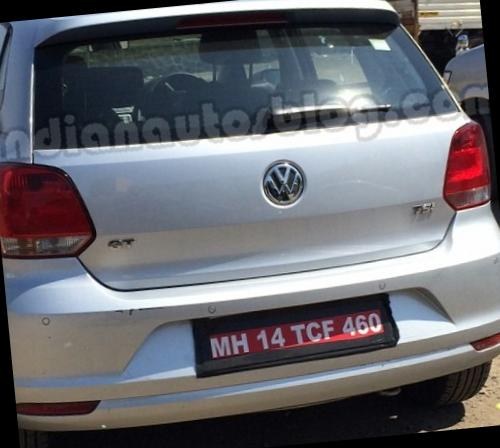plate: (191, 291, 402, 375)
